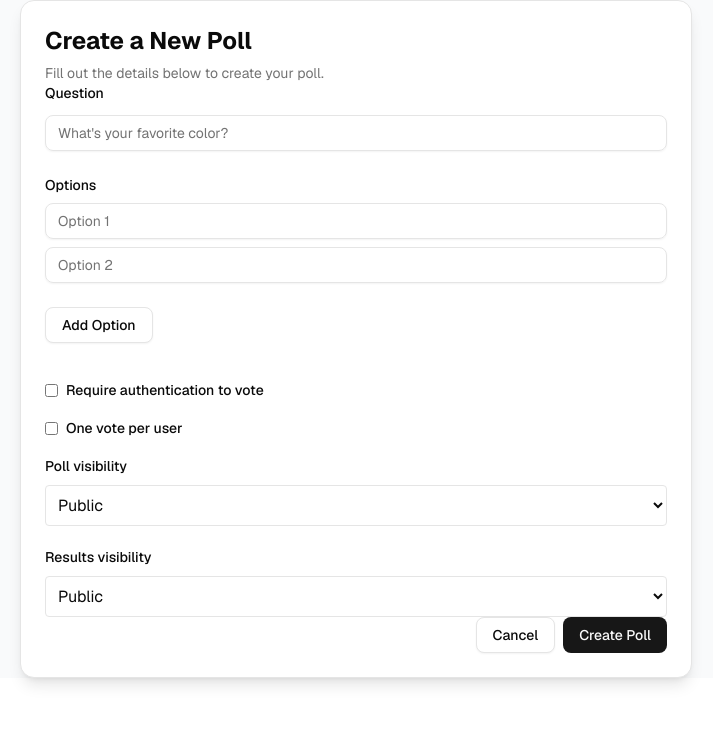
Test: NewPollPage › should allow adding new options
The image size is (713, 748).
Click the button "Add Option".
click(99, 325)  # box [45,307,153,343]
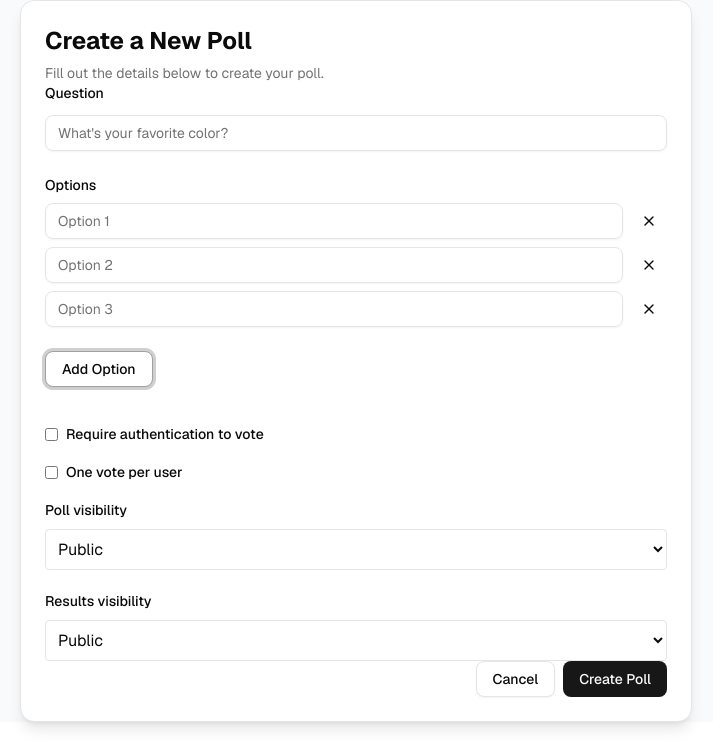
Check: the field with placeholder "Option 3" is shown, box [45,291,623,327]
